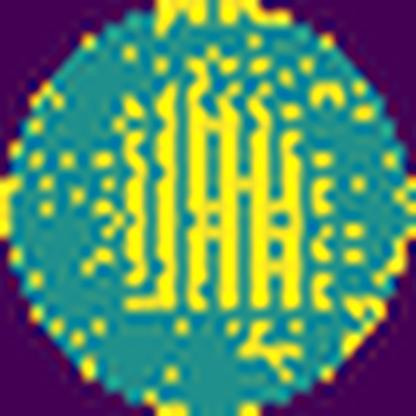Center: (114, 55, 336, 313)
